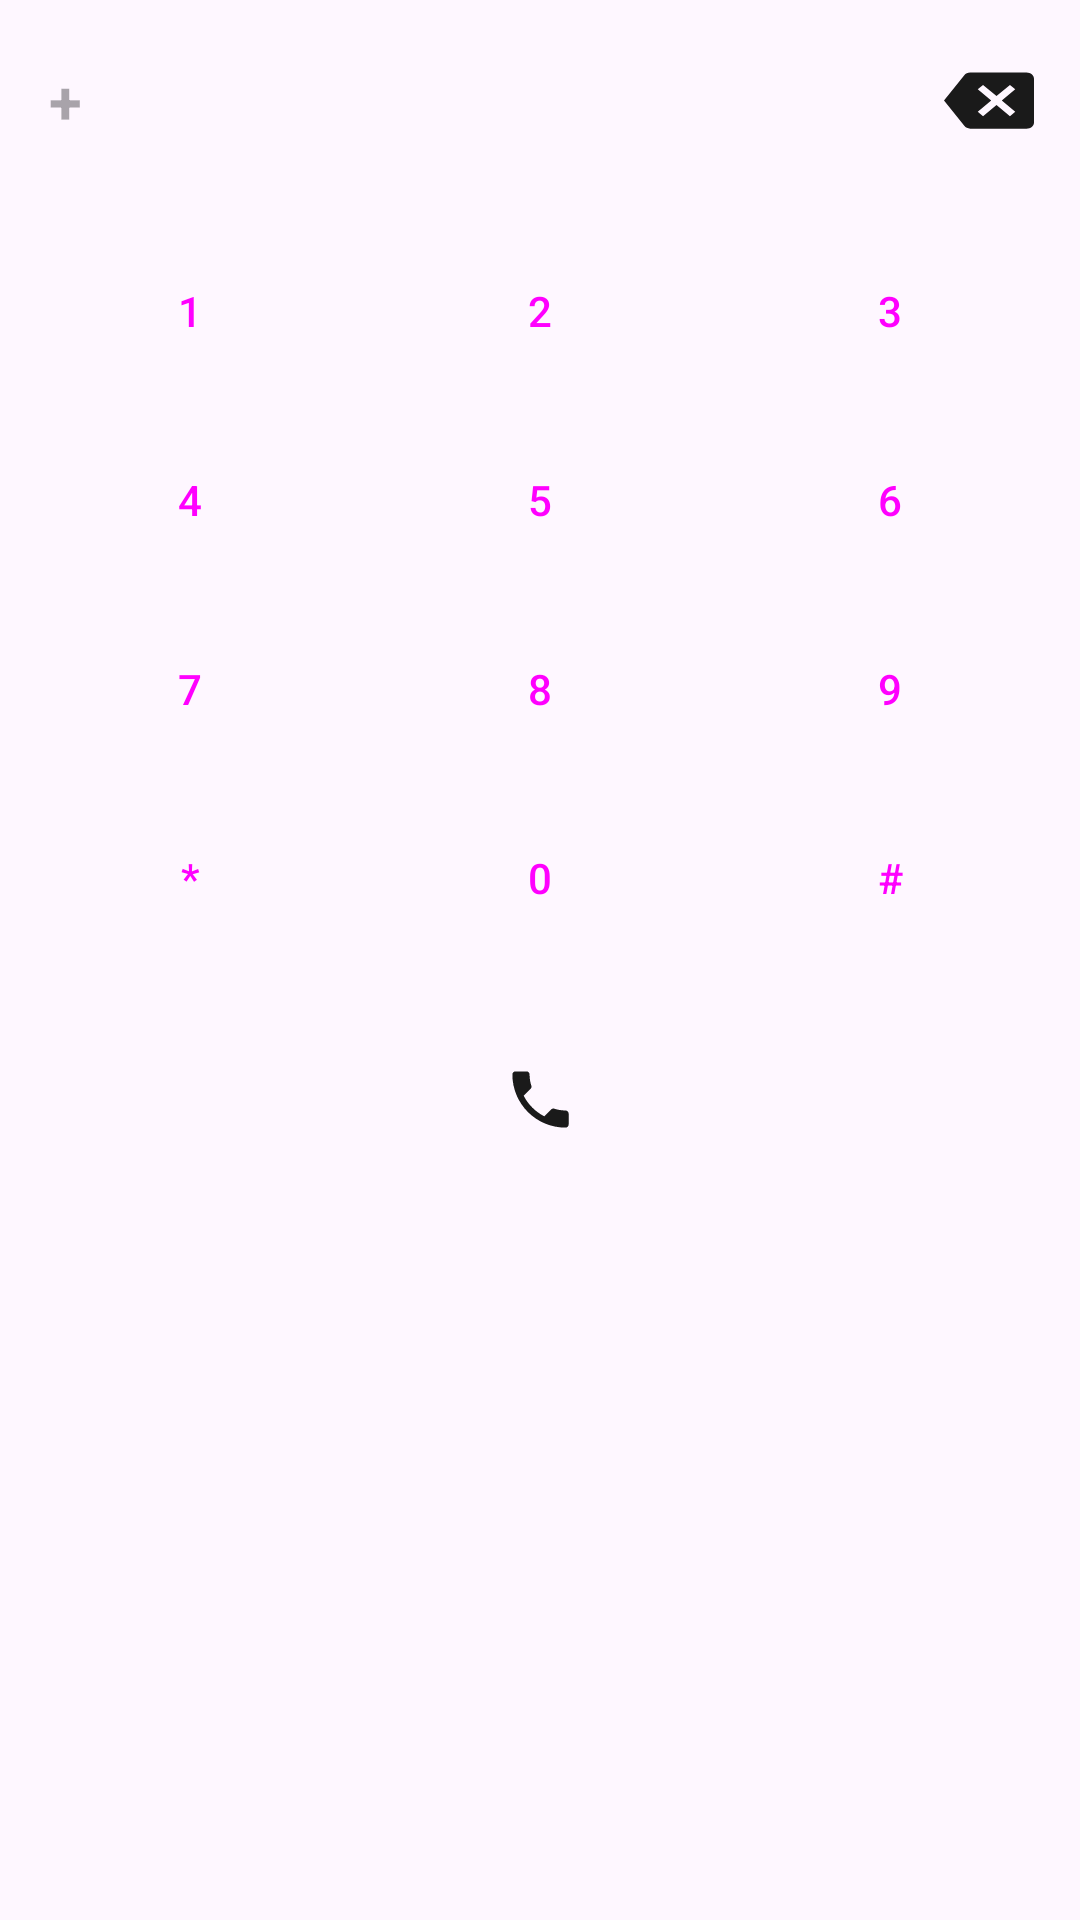

Screen size 1080 x 1920. Icon name, then its box in pixels as (x1,y1,x2,y2):
backspace: (944,72,1034,129)
phone: (512,1071,569,1128)
